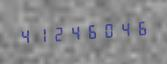four: (17, 24, 32, 47), (65, 21, 80, 44), (113, 17, 128, 40)
one: (33, 23, 48, 46)
six: (81, 20, 96, 43), (129, 16, 144, 39)
two: (49, 22, 64, 45)
zero: (97, 19, 112, 41)
